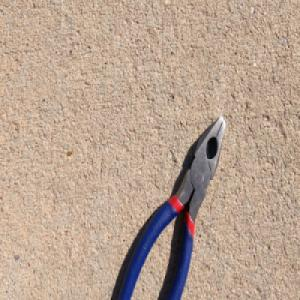Pliers: (118, 111, 230, 300)
